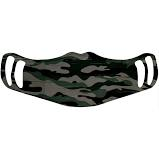cloth_mask: (1, 49, 159, 107)
